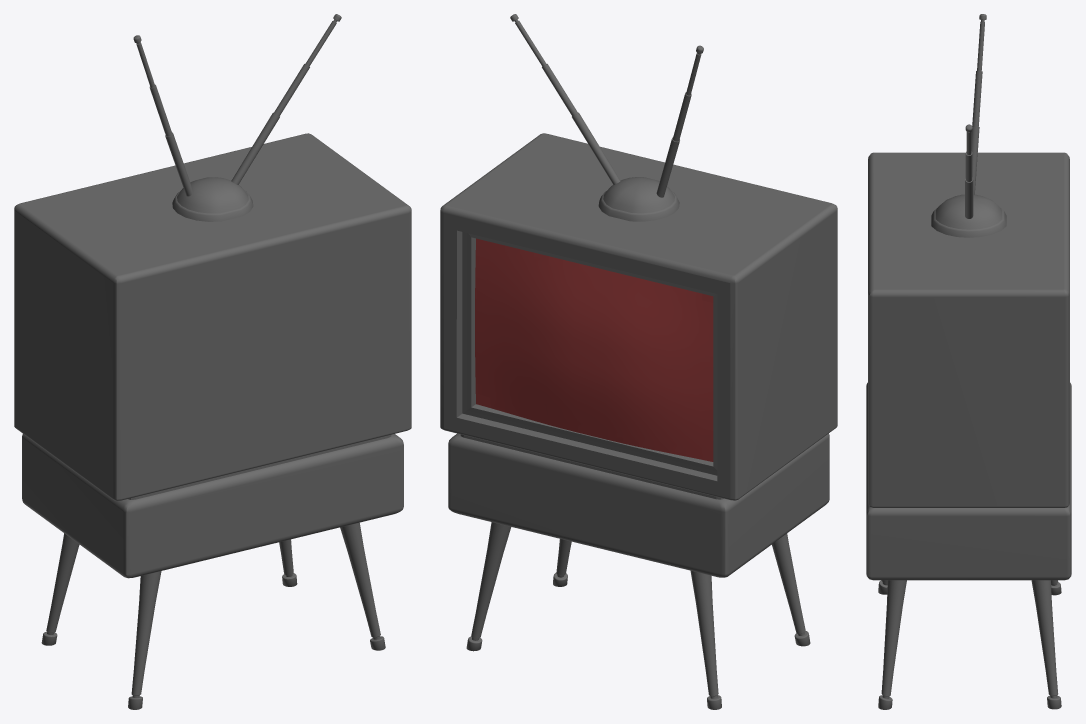
Rendered from OldTV.fbx.
The picture shows the model from 3 angles, left to right: view 1: azimuth 30°, elevation 25°; view 2: azimuth 150°, elevation 25°; view 3: azimuth 270°, elevation 25°; orthographic projection. The views are drawn at different scales.
Parts seen in each view (by area): view 1: pSphere2; view 2: pSphere2; view 3: pSphere2.
Boxes of the visible parts, box(x1,y1,x2,y2) form: pSphere2: box(14, 14, 411, 709); pSphere2: box(440, 14, 837, 709); pSphere2: box(866, 14, 1071, 709).
Bounding box in the file's own units: 4.09 × 8.13 × 2.51.
